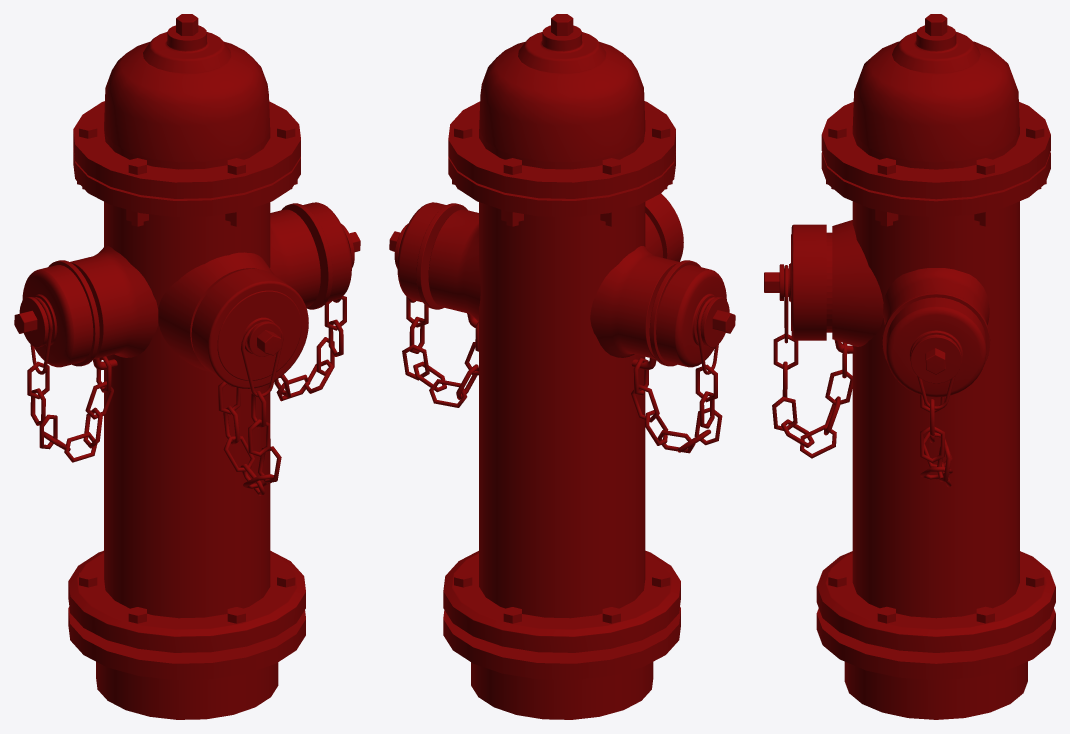
File: FireHydrant.fbx
3 renders of one model, left to right at view 1: azimuth 30°, elevation 25°; view 2: azimuth 150°, elevation 25°; view 3: azimuth 270°, elevation 25°, orthographic.
Visible parts, largest first — view 1: FIreHydrant; view 2: FIreHydrant; view 3: FIreHydrant.
Boxes of the visible parts, x1,y1,x2,y2 form: FIreHydrant: [14, 14, 360, 719]; FIreHydrant: [389, 14, 735, 719]; FIreHydrant: [764, 14, 1055, 719].
Size of the model in its own units: 19.07 by 35.91 by 14.32.
